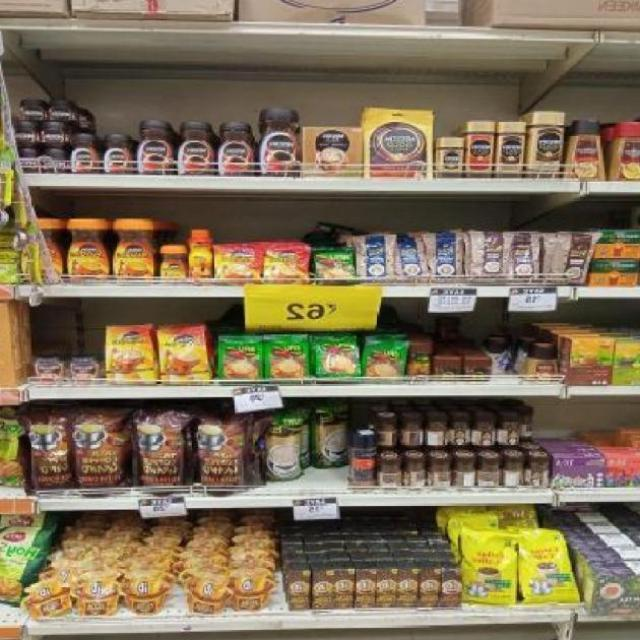Coffee: (66, 219, 111, 284), (258, 109, 300, 175), (159, 325, 208, 381), (114, 220, 156, 284), (107, 326, 155, 382), (527, 112, 564, 179), (176, 122, 215, 175), (135, 122, 172, 174), (216, 123, 253, 175), (217, 248, 260, 284), (498, 122, 524, 178), (265, 247, 305, 283), (189, 231, 212, 285), (71, 134, 100, 173), (104, 134, 133, 173), (159, 245, 187, 283), (437, 137, 463, 177), (10, 122, 38, 145), (15, 148, 40, 173), (42, 123, 68, 146), (44, 149, 68, 173), (19, 99, 46, 119), (49, 100, 72, 120)
